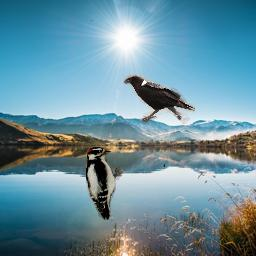Crow: (123, 74, 195, 124)
Woodpecker: (86, 147, 123, 220)
